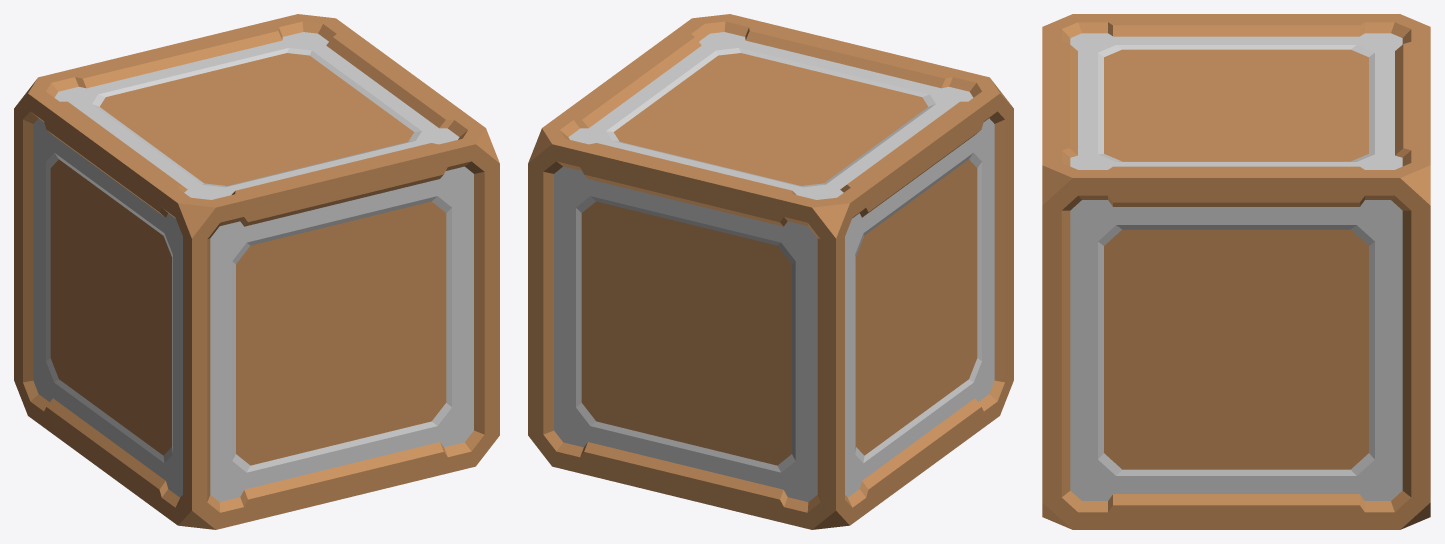
The model's file is crate orange big.fbx.
3 renders of one model, left to right at view 1: azimuth 30°, elevation 25°; view 2: azimuth 150°, elevation 25°; view 3: azimuth 270°, elevation 25°, orthographic. The views are drawn at different scales.
Visible parts, largest first — view 1: Crate Large; view 2: Crate Large; view 3: Crate Large.
Boxes of the visible parts, x1,y1,x2,y2 form: Crate Large: (14,14,499,529); Crate Large: (528,14,1013,529); Crate Large: (1042,14,1430,529).
Size of the model in its own units: 100 by 100 by 100.
